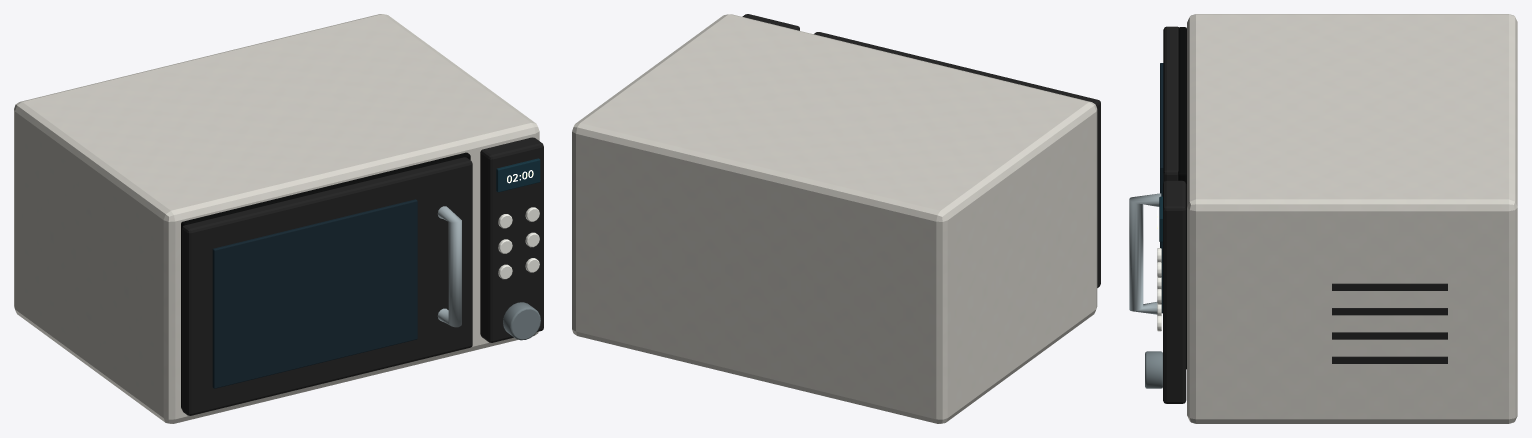
File: OAA_Pantry_Microwave.fbx
The picture shows the model from 3 angles, left to right: view 1: azimuth 30°, elevation 25°; view 2: azimuth 150°, elevation 25°; view 3: azimuth 270°, elevation 25°; orthographic projection. The views are drawn at different scales.
Visible parts, largest first — view 1: Body, Microwave_Door_Hinge_Mesh; view 2: Body, Microwave_Door_Hinge_Mesh; view 3: Body, Microwave_Door_Hinge_Mesh.
Part boxes in pixels (left/top/right/bottom): Body: left=14, top=14, right=543, bottom=423; Microwave_Door_Hinge_Mesh: left=182, top=157, right=472, bottom=415; Body: left=572, top=14, right=1097, bottom=423; Microwave_Door_Hinge_Mesh: left=814, top=32, right=1100, bottom=287; Body: left=1145, top=14, right=1517, bottom=423; Microwave_Door_Hinge_Mesh: left=1129, top=26, right=1178, bottom=314.
Bounding box in the file's own units: 0.512 × 0.2835 × 0.4348.
